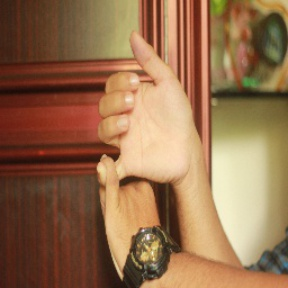S: (90, 26, 186, 279)
